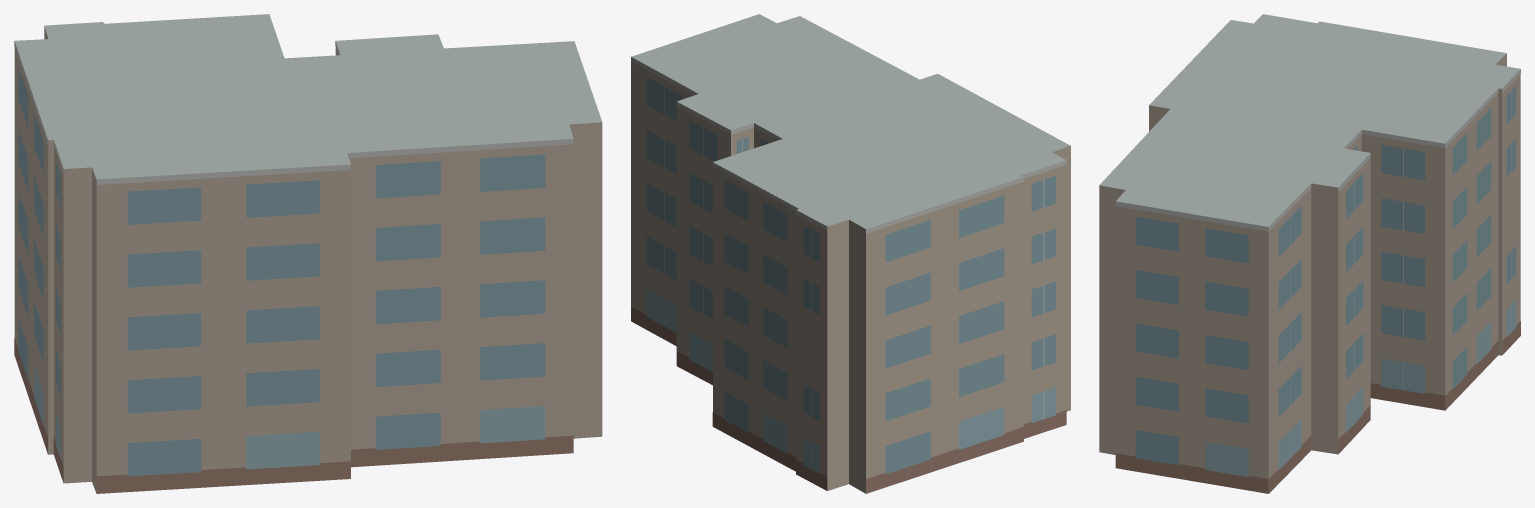
Rendered from survey-upis-32526405.glb.
3 views of the same model, side by side, from view 1: azimuth 30°, elevation 25°; view 2: azimuth 150°, elevation 25°; view 3: azimuth 270°, elevation 25° (orthographic). The views are drawn at different scales.
Visible parts, largest first — view 1: survey-upis-32526405.tmp; view 2: survey-upis-32526405.tmp; view 3: survey-upis-32526405.tmp.
Part boxes in pixels (x1,y1,x2,y2): survey-upis-32526405.tmp: (14, 14, 602, 493); survey-upis-32526405.tmp: (631, 14, 1070, 493); survey-upis-32526405.tmp: (1099, 14, 1520, 493).
Bounding box in the file's own units: 24.06 × 14.05 × 20.12.
